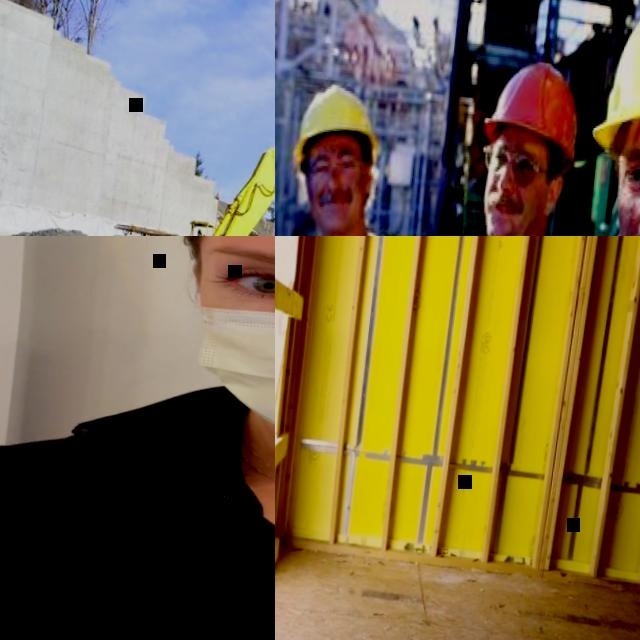Hardhat: (478, 52, 588, 173), (289, 77, 384, 166), (587, 0, 640, 151)
Mask: (172, 244, 275, 466)
NO-Mask: (475, 187, 543, 236), (307, 182, 367, 234)
NO-Safety Vest: (13, 401, 275, 640)
Person: (0, 236, 275, 640), (374, 45, 605, 236), (275, 73, 451, 236), (543, 0, 640, 236), (195, 227, 207, 236)
Safety Vest: (196, 233, 204, 236)
